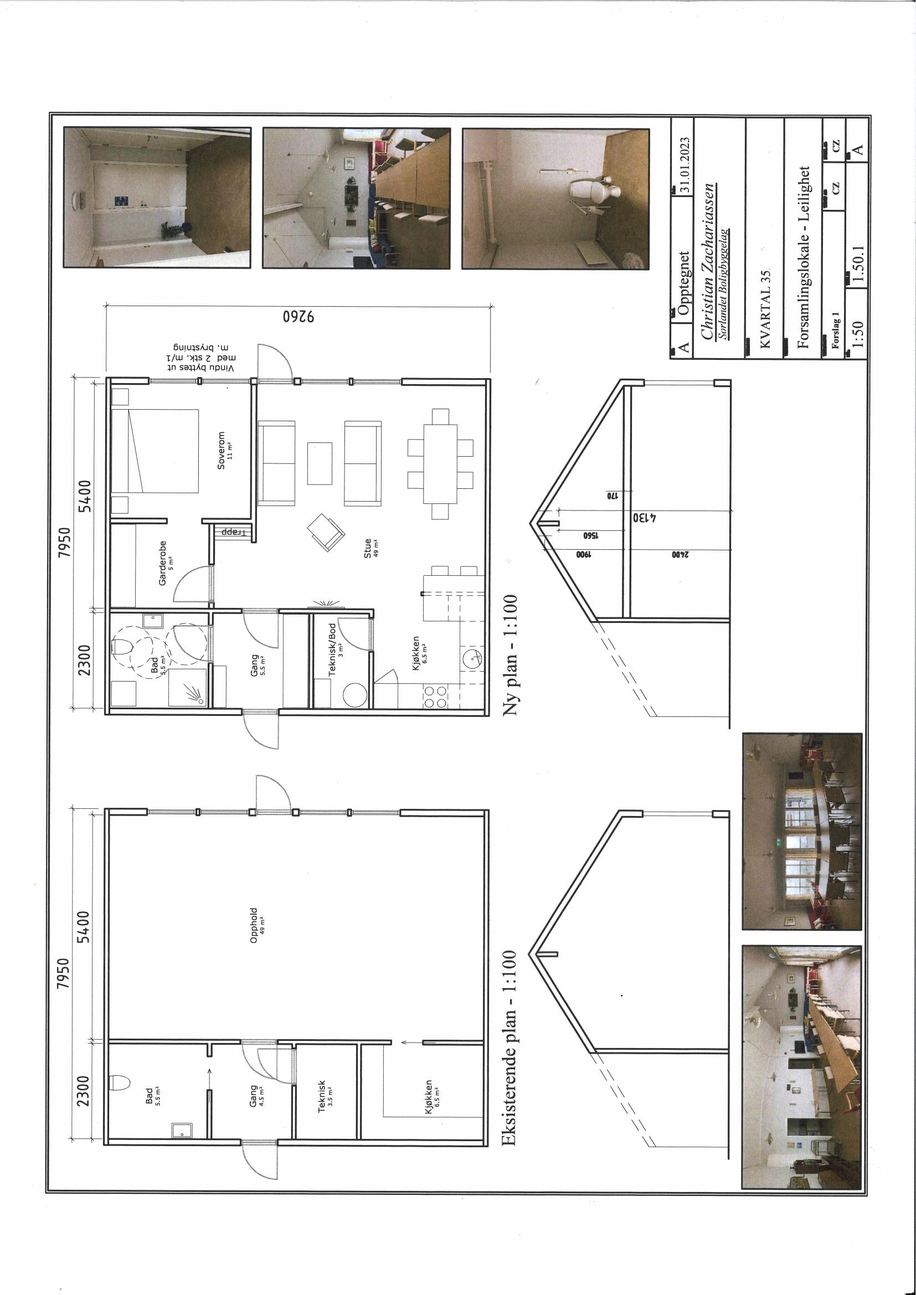plantegning: (66, 783, 518, 1180), (84, 340, 500, 749)
snitt: (531, 366, 754, 716)
tekst: (848, 312, 866, 354)
